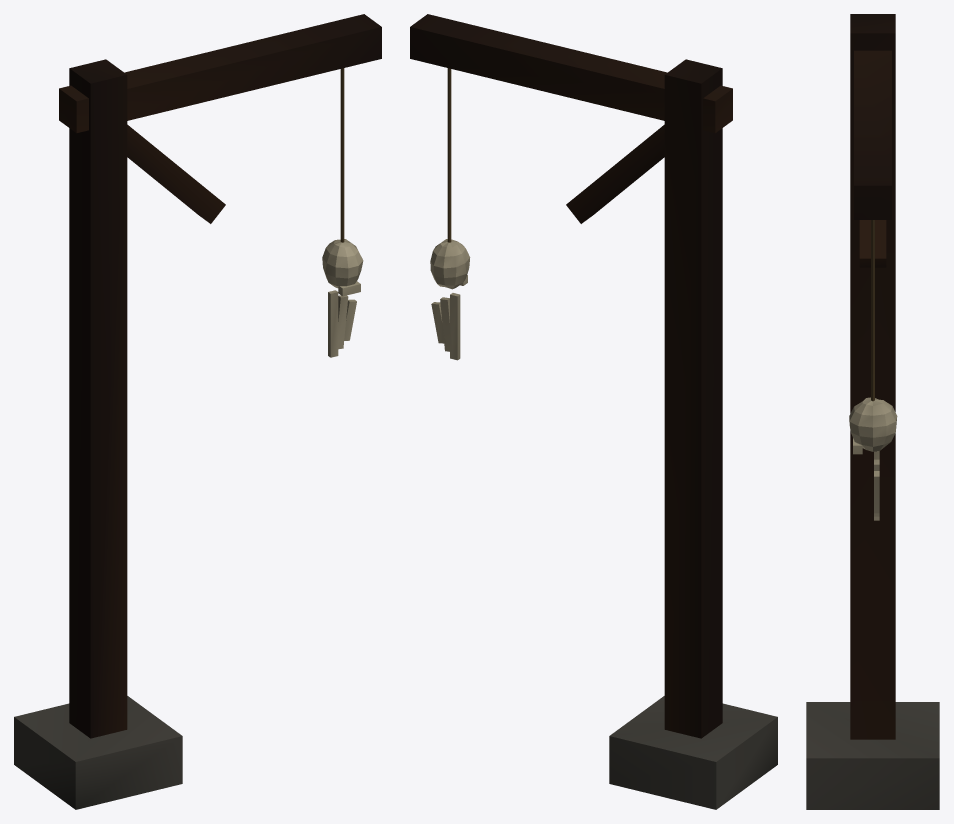
The model's file is gallows.glb.
The picture shows the model from 3 angles, left to right: view 1: azimuth 30°, elevation 25°; view 2: azimuth 150°, elevation 25°; view 3: azimuth 270°, elevation 25°; orthographic projection. The views are drawn at different scales.
Parts seen in each view (by area): view 1: gallows; view 2: gallows; view 3: gallows.
Part boxes in pixels (left/top/right/bottom): gallows: left=14, top=14, right=381, bottom=809; gallows: left=410, top=14, right=777, bottom=809; gallows: left=806, top=14, right=939, bottom=809.
Size of the model in its own units: 2.15 by 4.4 by 0.7.
